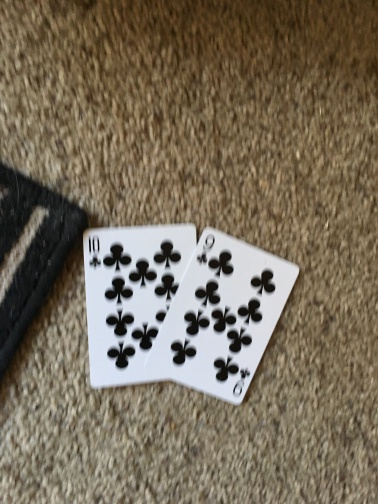nine: (150, 225, 301, 407)
ten: (83, 222, 198, 393)
